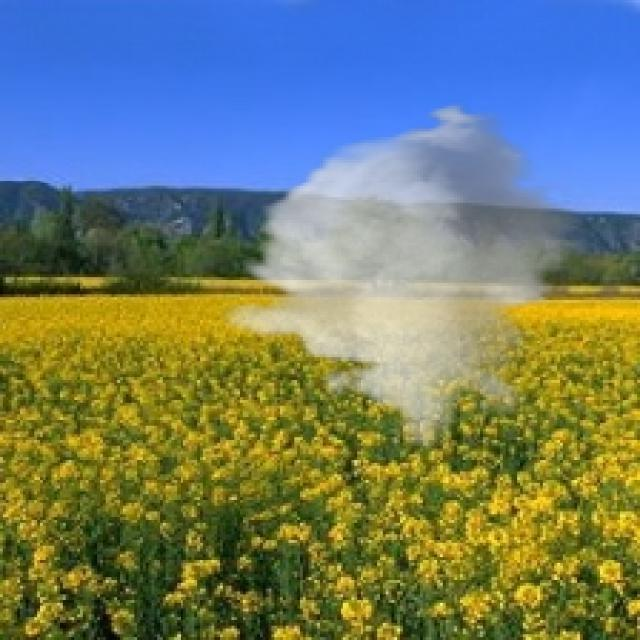Smoke: (220, 100, 594, 449)
